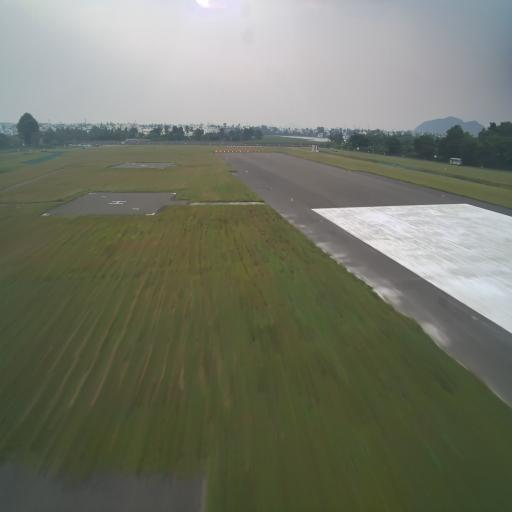off: (469, 308, 480, 328), (318, 217, 326, 226), (268, 182, 274, 194), (372, 196, 374, 200)
on: (289, 195, 294, 204), (245, 169, 249, 175), (442, 193, 445, 199), (303, 157, 305, 161), (349, 169, 351, 172), (216, 150, 218, 152), (247, 151, 249, 153), (224, 150, 225, 153), (228, 150, 229, 153), (232, 150, 233, 153), (240, 150, 241, 153), (226, 158, 227, 160), (215, 151, 216, 153), (220, 150, 221, 152), (236, 150, 237, 152), (251, 150, 252, 152), (255, 151, 256, 153), (259, 151, 260, 153), (244, 150, 244, 153)
